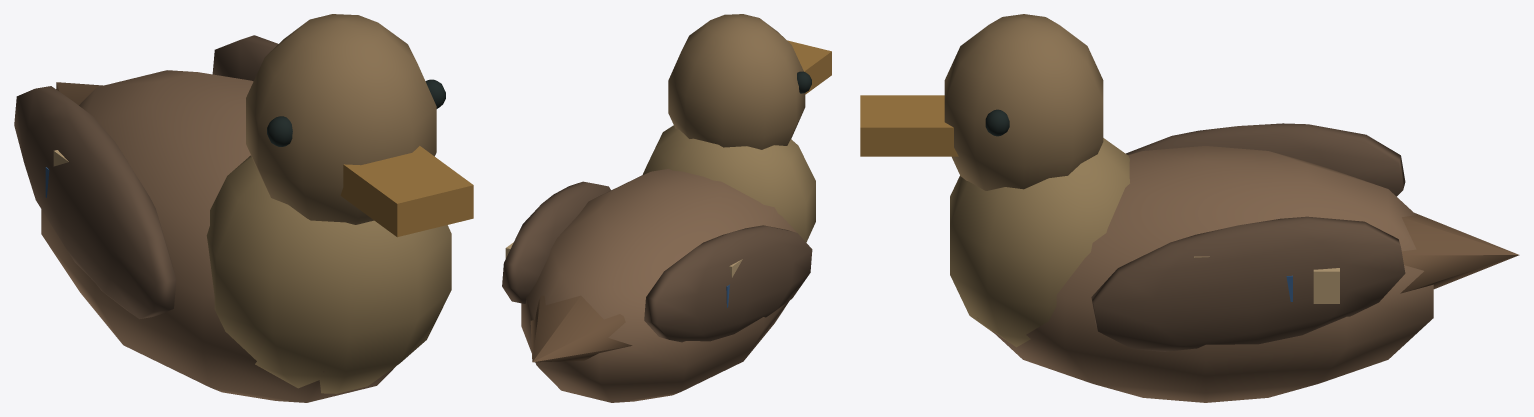
Rendered from mallard-2.glb.
3 views of the same model, side by side, from view 1: azimuth 30°, elevation 25°; view 2: azimuth 150°, elevation 25°; view 3: azimuth 270°, elevation 25° (orthographic). The views are drawn at different scales.
Visible parts, largest first — view 1: part-0; view 2: part-0; view 3: part-0.
Boxes of the visible parts, x1=… form: part-0: x1=14, y1=14, x2=473, y2=402; part-0: x1=502, y1=14, x2=831, y2=402; part-0: x1=860, y1=14, x2=1519, y2=402.
Size of the model in its own units: 0.1948 by 0.2556 by 0.4167.
